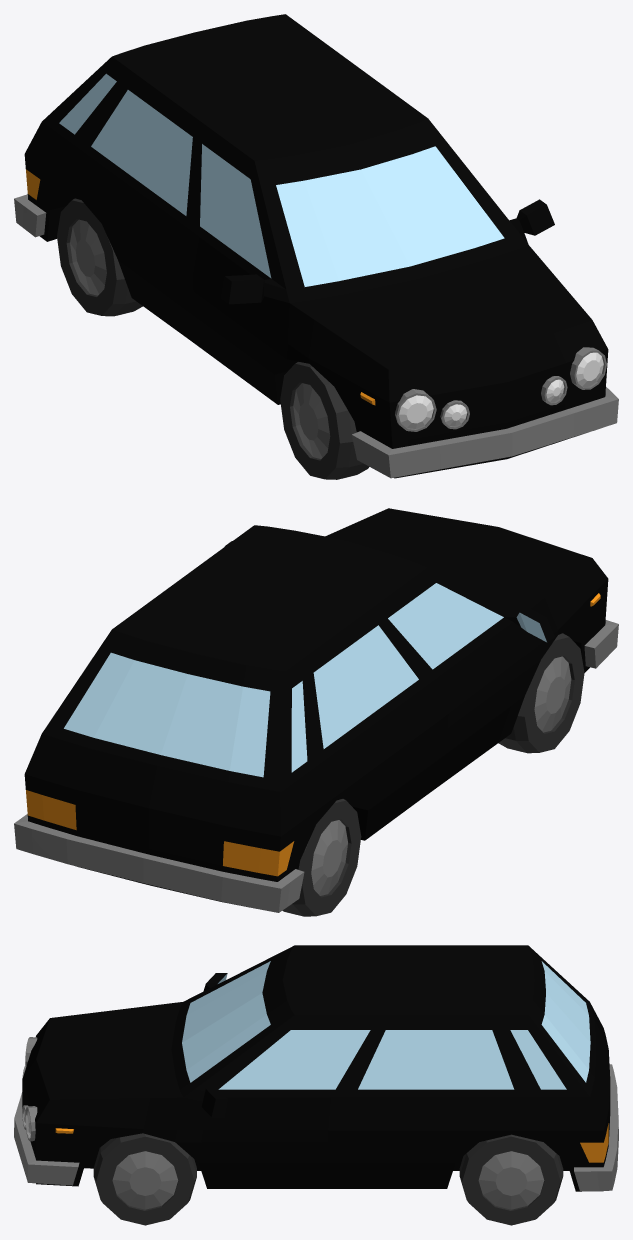
The model's file is car_black.glb.
3 views of the same model, one above another, from view 1: azimuth 30°, elevation 25°; view 2: azimuth 150°, elevation 25°; view 3: azimuth 270°, elevation 25° (orthographic). The views are drawn at different scales.
Parts seen in each view (by area): view 1: 1377 Car; view 2: 1377 Car; view 3: 1377 Car.
Boxes of the visible parts, x1,y1,x2,y2 form: 1377 Car: [14, 14, 618, 479]; 1377 Car: [14, 508, 618, 916]; 1377 Car: [14, 945, 618, 1225].
Bounding box in the file's own units: 45.5 × 32.33 × 89.11.
Materials: 1 (1 with a texture image).
